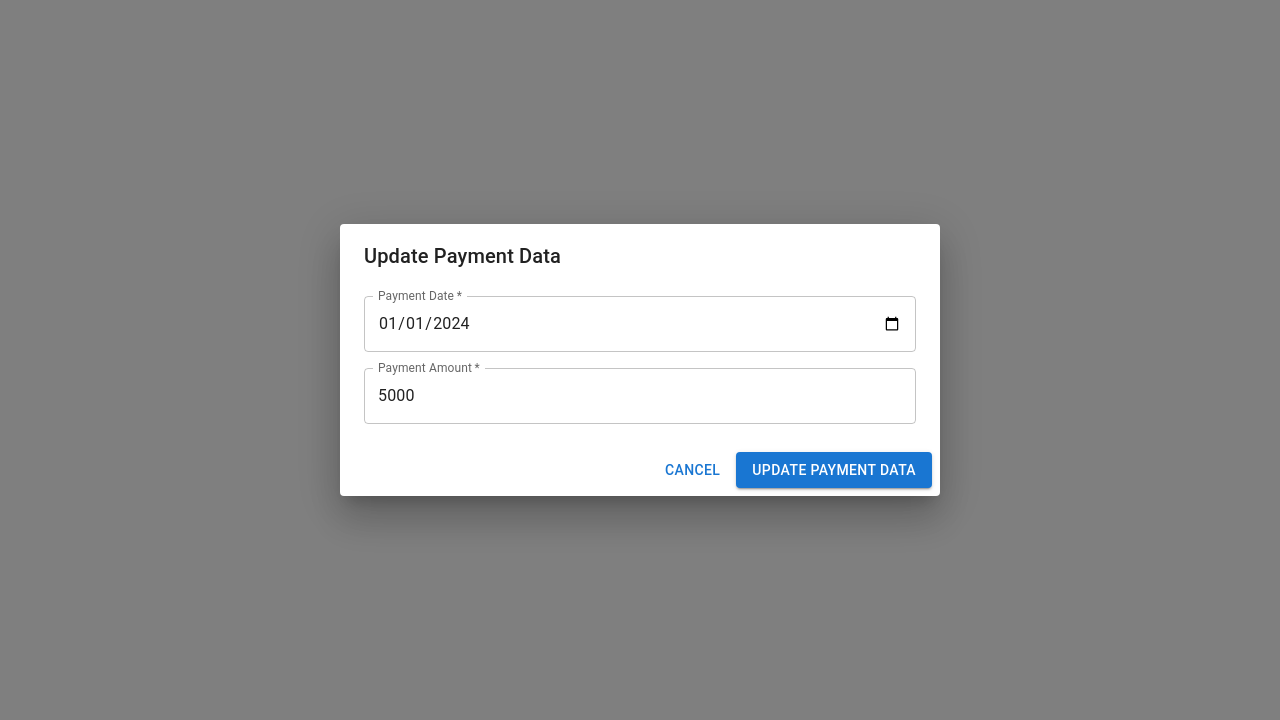
PaymentDataForm › handles network error
Click the button "Update Payment Data" at (834,470), box [736, 452, 932, 488]
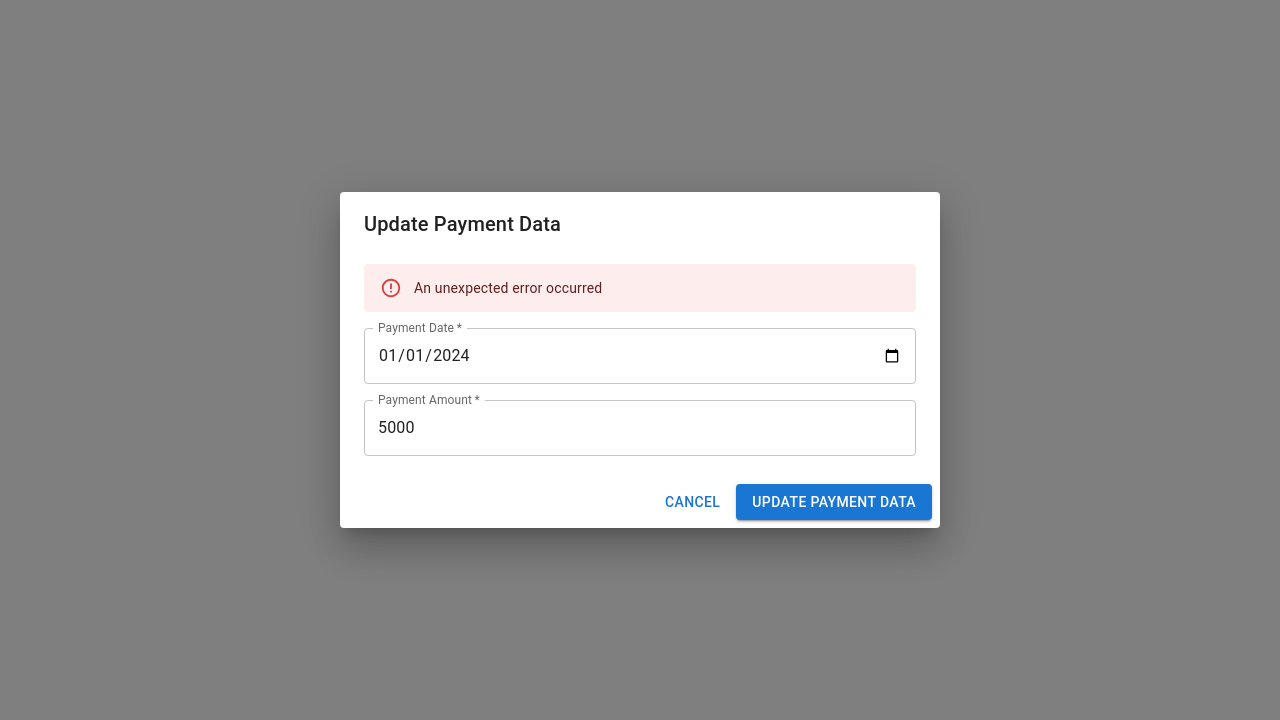
expect the text "An unexpected error occurred" is shown: met, box [414, 280, 602, 296]
